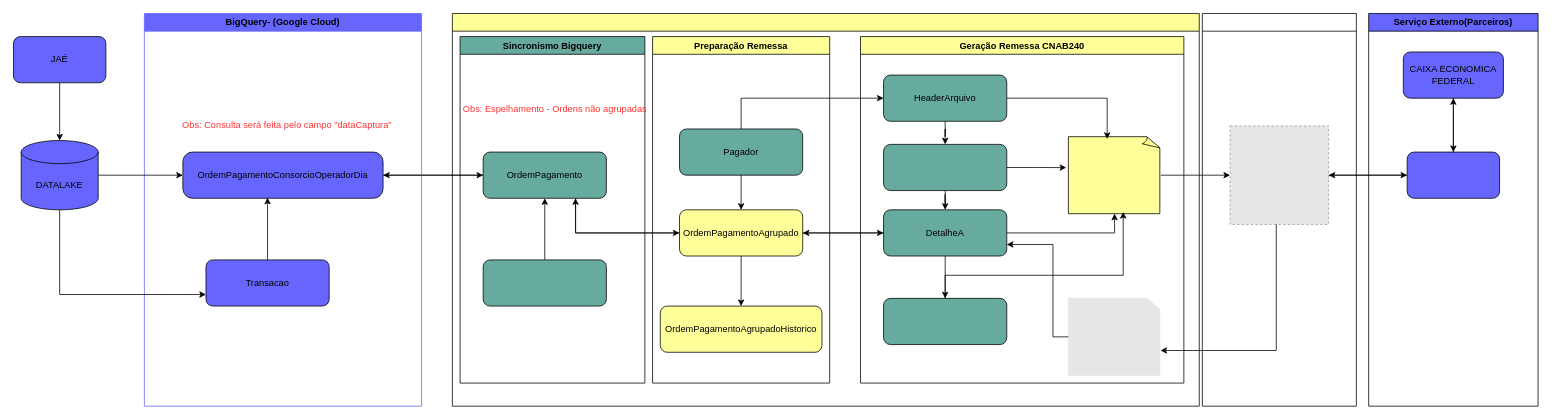
Image size: 1552x420. Some labels were removed from this diagram. Grey dashed boxes stand in for pictures. Each missing label, with the box of its shape:
ACCESSTAGE: (1406, 151, 1500, 198)
Arquivo Remessa: (1068, 136, 1161, 214)
Arquivo Retorno: (1068, 298, 1161, 375)
DetalheB: (883, 298, 1007, 345)
HeaderLote: (883, 144, 1007, 191)
Postgres CCT (Google Cloud): (452, 13, 1199, 406)
Serviço SFTP(Google Cloud): (1202, 13, 1356, 406)
User: (482, 259, 606, 306)
